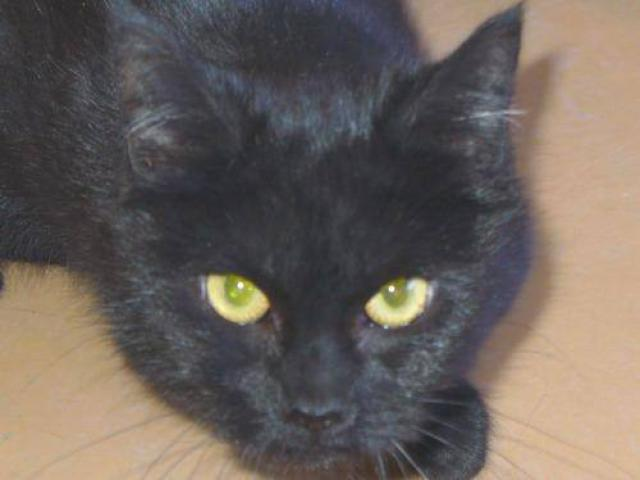cat: (4, 1, 562, 479)
